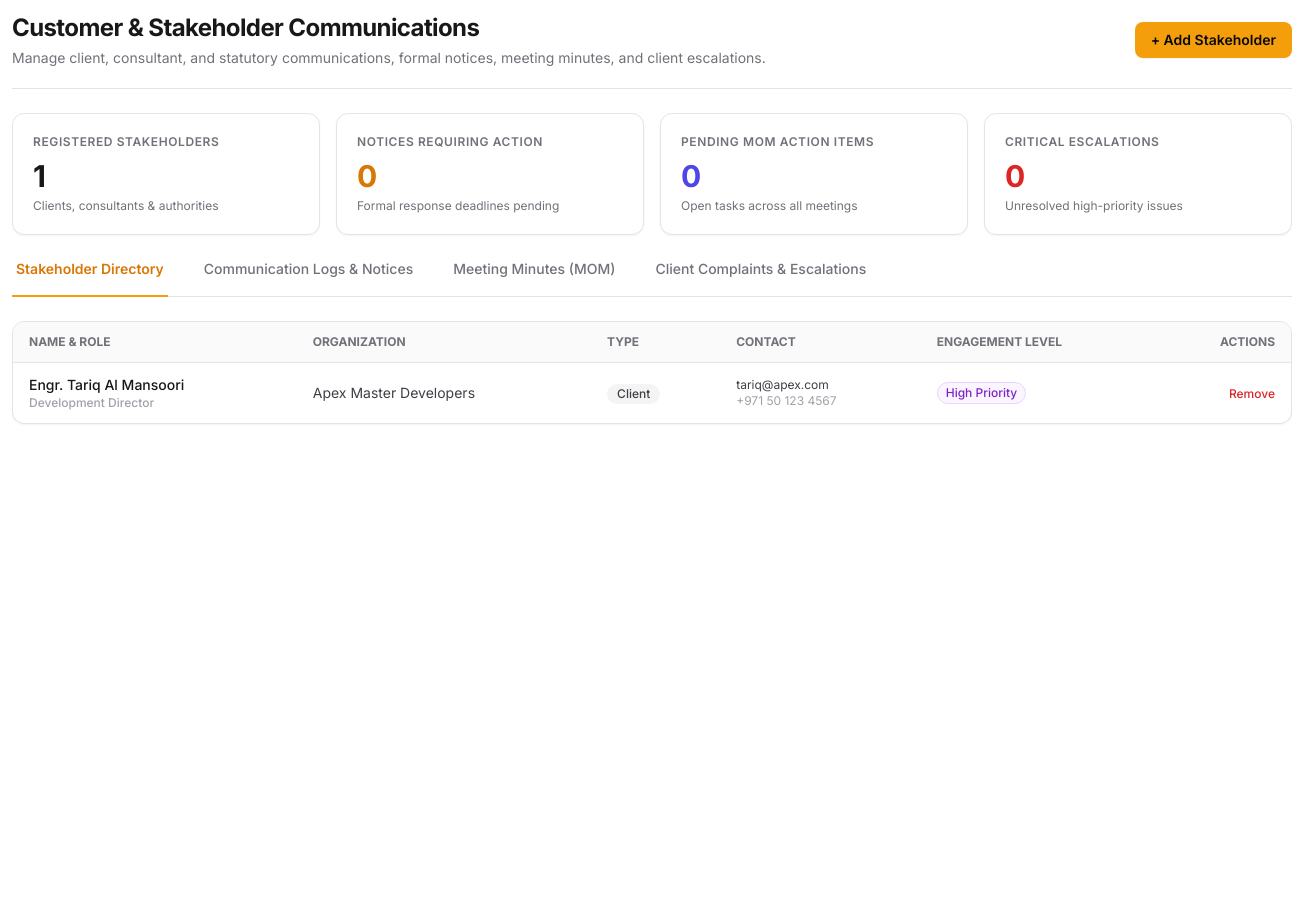
Test: CommunicationsPage › switches to Meeting Minutes tab and renders action items
Click the button "Meeting Minutes (MOM)" at x=534, y=278, box [449,259,619,297]
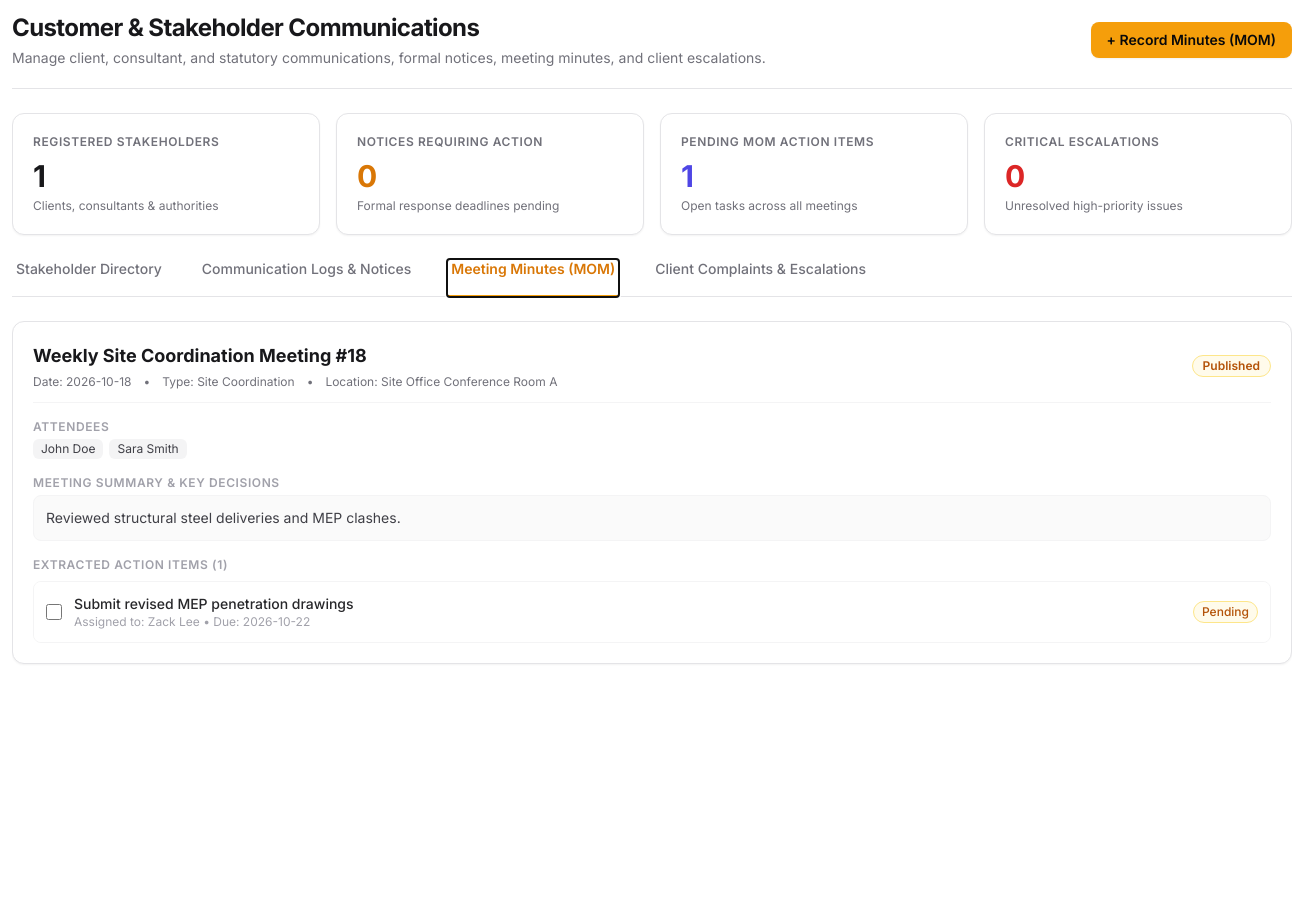
Result: the heading "Weekly Site Coordination Meeting #18" is shown at [33,345,367,366]
Result: the text "Submit revised MEP penetration drawings" is shown at [74,595,354,612]
Result: the text "Assigned to: Zack Lee • Due: 2026-10-22" is shown at [74,614,310,629]
